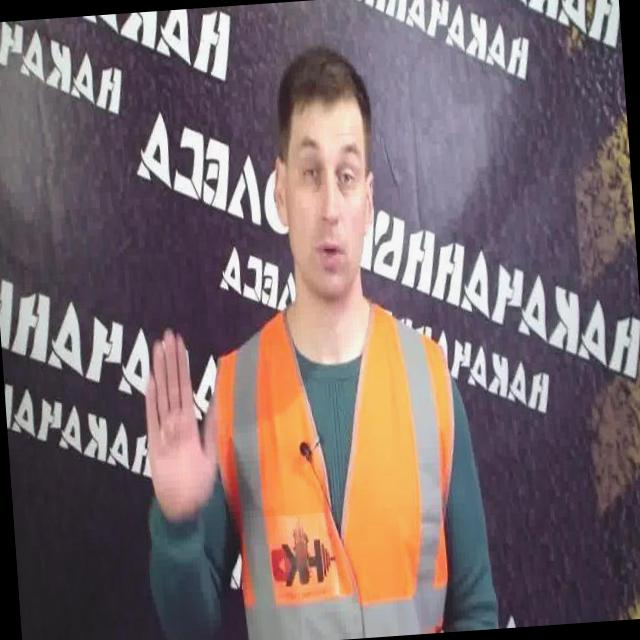vest: (206, 291, 471, 640)
